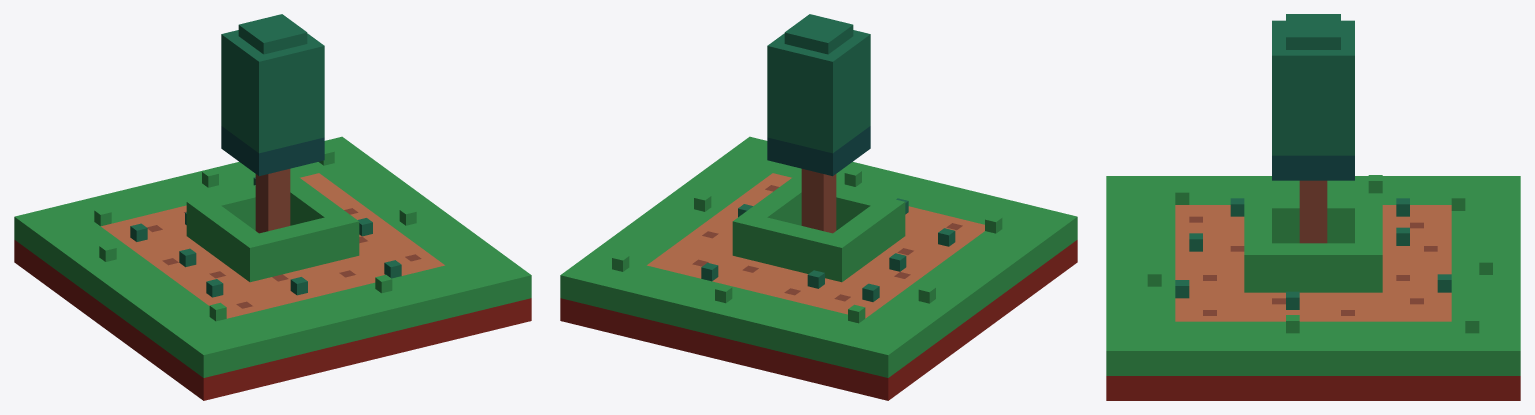
File: ParkTile03.obj
3 views of the same model, side by side, from view 1: azimuth 30°, elevation 25°; view 2: azimuth 150°, elevation 25°; view 3: azimuth 270°, elevation 25° (orthographic). The views are drawn at different scales.
Bounding box in the file's own units: 3 × 2.3 × 3.
1 material, 1 textured.
